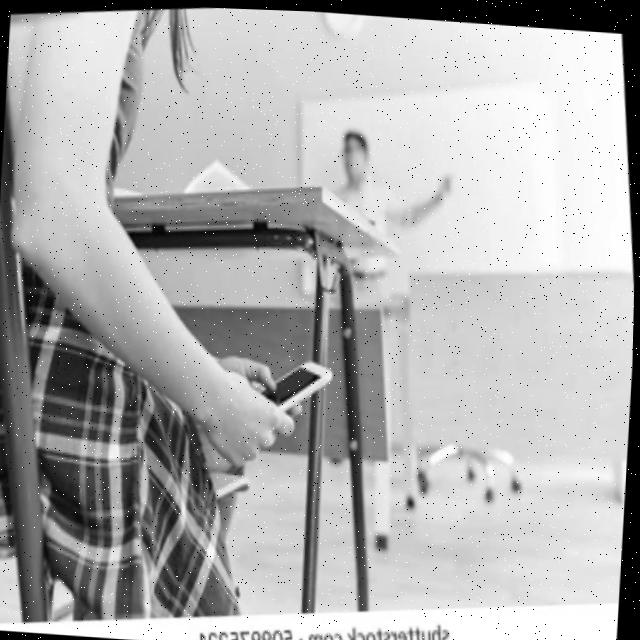phone: (254, 349, 340, 416)
